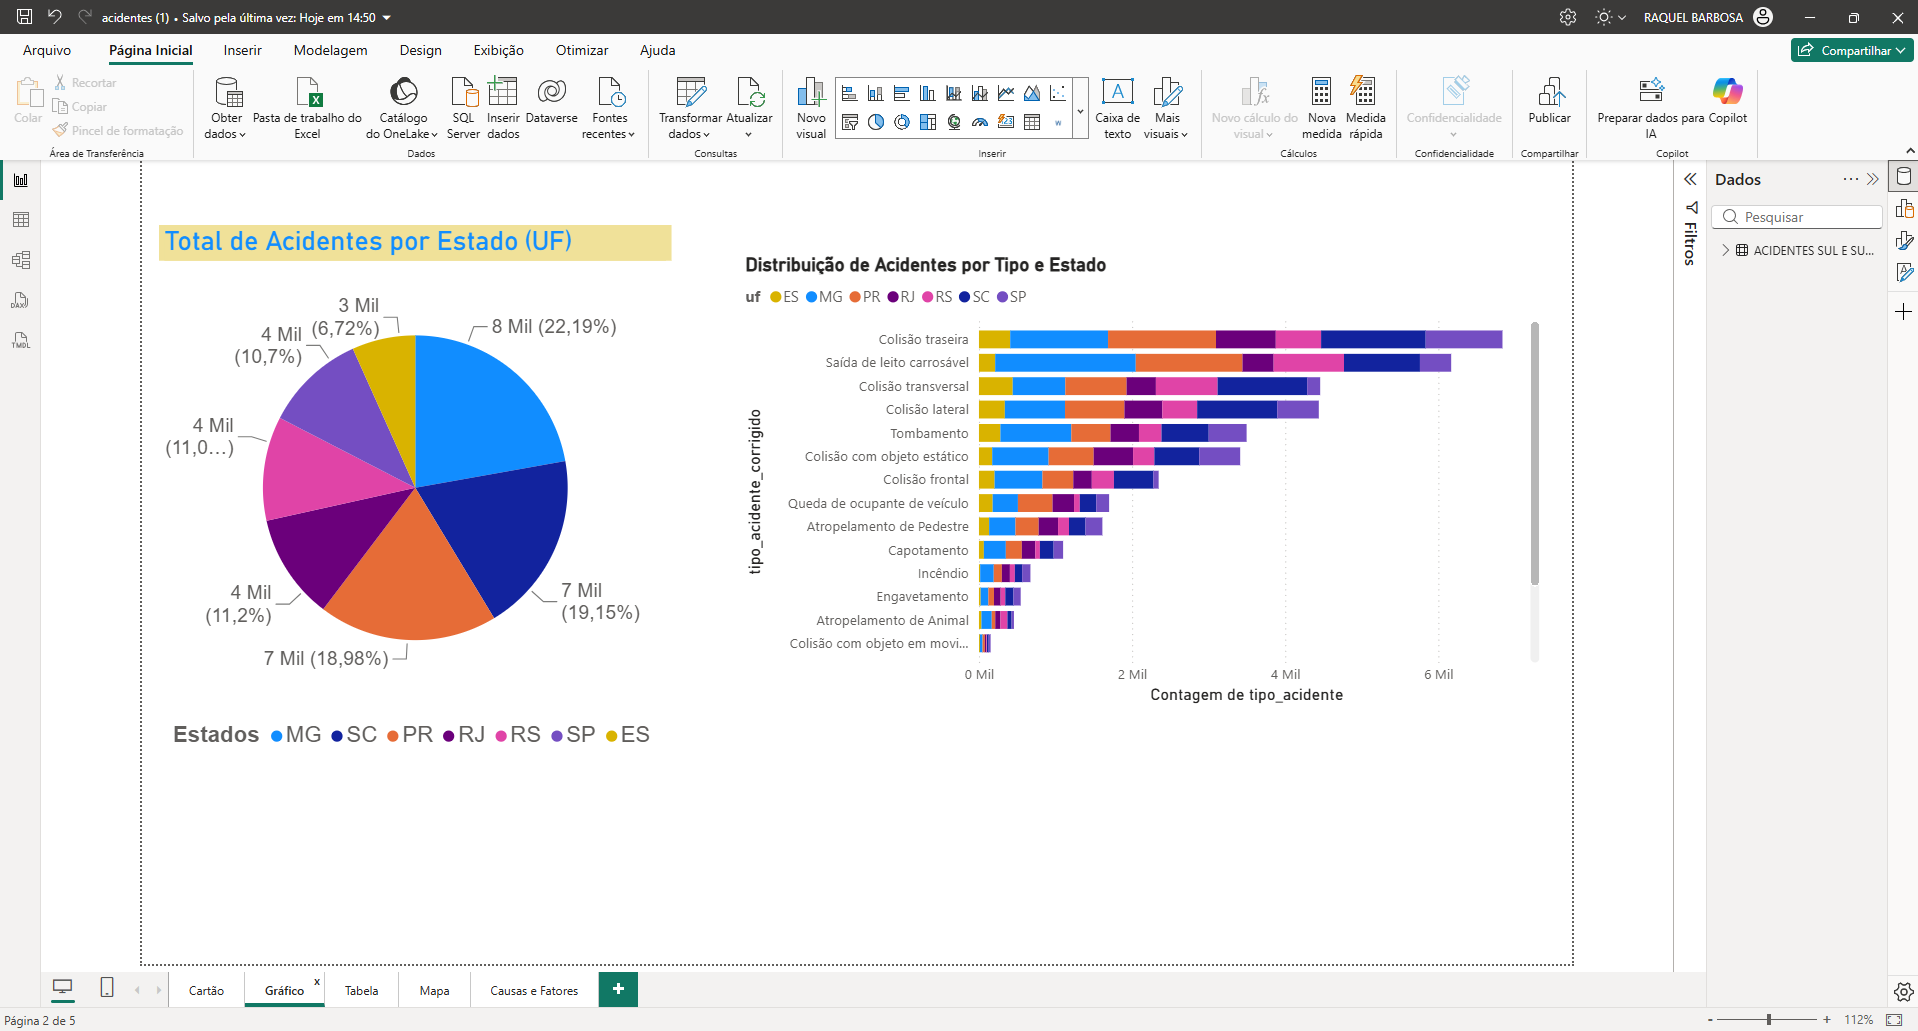

What the dashboard file says about the page in this screenshot:
{"tool":"powerbi","page":{"name":"Gráfico","canvas":[1280,720],"ordinal":1},"visuals":[{"type":"pieChart","title":"Total de Acidentes por Estado (UF)","fields":{"Category":["ACIDENTES SUL E SUDESTE.uf"],"Y":["ACIDENTES SUL E SUDESTE.QT_ACID"]},"box":[15.1,58.1,459,479.6],"z":0},{"type":"barChart","title":"Distribuição de Acidentes  por Tipo e Estado","fields":{"Category":["ACIDENTES SUL E SUDESTE.tipo_acidente_corrigido"],"Series":["ACIDENTES SUL E SUDESTE.uf"],"Y":["CountNonNull(ACIDENTES SUL E SUDESTE.tipo_acidente)"]},"box":[535.5,83.6,720.9,409],"z":1000}]}

Visuals, with their boxes on the page's 1280x720 design canvas (x1, y1, x2, y2). These are canvas units, not pixel positions in the 1918x1031 screenshot, which may show the page scaled, cropped or inside an application window:
"Total de Acidentes por Estado (UF)" pieChart: pyautogui.locateOnScreen(15, 58, 474, 538)
"Distribuição de Acidentes  por Tipo e Estado" barChart: pyautogui.locateOnScreen(536, 84, 1256, 493)
